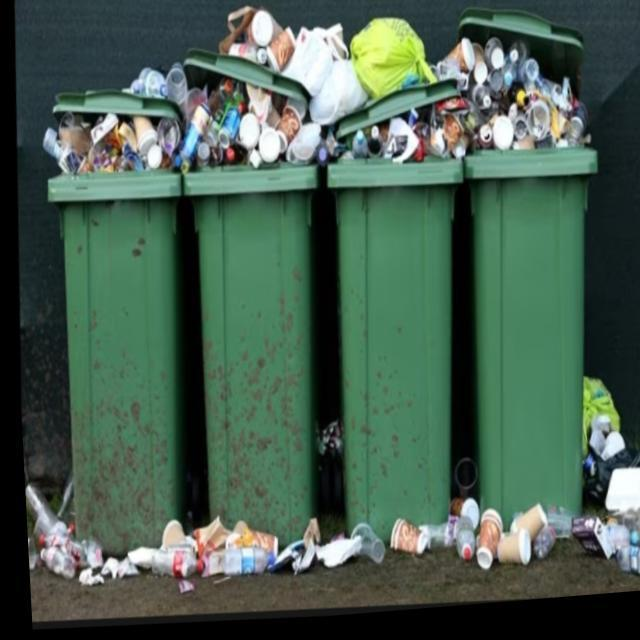Disposable: (265, 31, 294, 76), (275, 109, 300, 156), (131, 117, 156, 159), (164, 66, 187, 108), (447, 45, 473, 79), (156, 121, 178, 159), (470, 51, 486, 93), (483, 46, 503, 77), (350, 136, 365, 162)
Garbage: (41, 11, 587, 175)
Plastic_Bag: (349, 23, 433, 104), (280, 29, 347, 102), (307, 65, 366, 131)
Plastic_bottle: (128, 68, 165, 100), (127, 70, 165, 100), (227, 47, 267, 68), (516, 66, 537, 97), (470, 93, 490, 118), (508, 49, 527, 73), (501, 64, 514, 98), (313, 145, 327, 173), (195, 145, 208, 170)
can: (178, 107, 208, 165), (216, 110, 239, 152), (365, 131, 380, 161), (476, 130, 490, 155)
